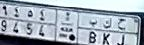4: (38, 8, 45, 38), (13, 6, 19, 34)
5: (26, 9, 33, 35)
9: (1, 5, 7, 33)
B: (88, 17, 98, 44)
J: (116, 18, 127, 45)
K: (101, 18, 112, 45)
